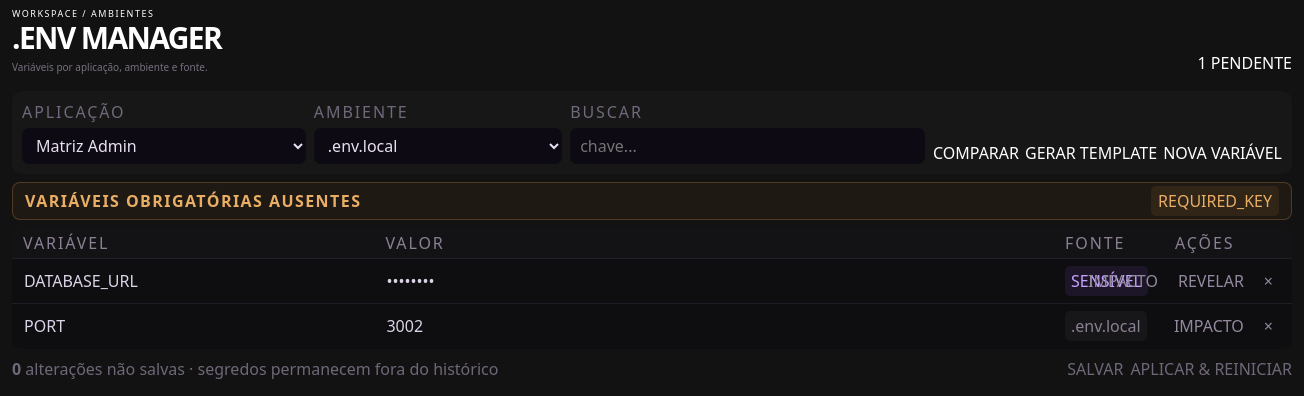
Test: EnvironmentManager › keeps secrets masked until the user explicitly reveals one
Expected: the field showing "••••••••" is shown, [374,265,1054,296]
What coordinates should you click on to do the following:
click the button with aria-label "Revelar DATABASE_URL"
I would click on:
 (1211, 280)
Its box is [1170,267,1252,294].
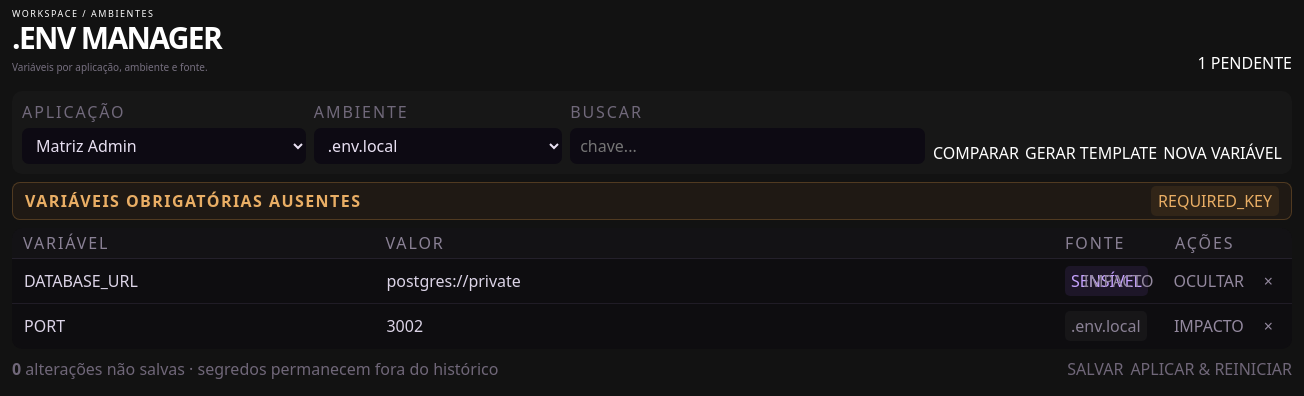
Now the field showing "postgres://private" is shown, box [374,265,1054,296]
